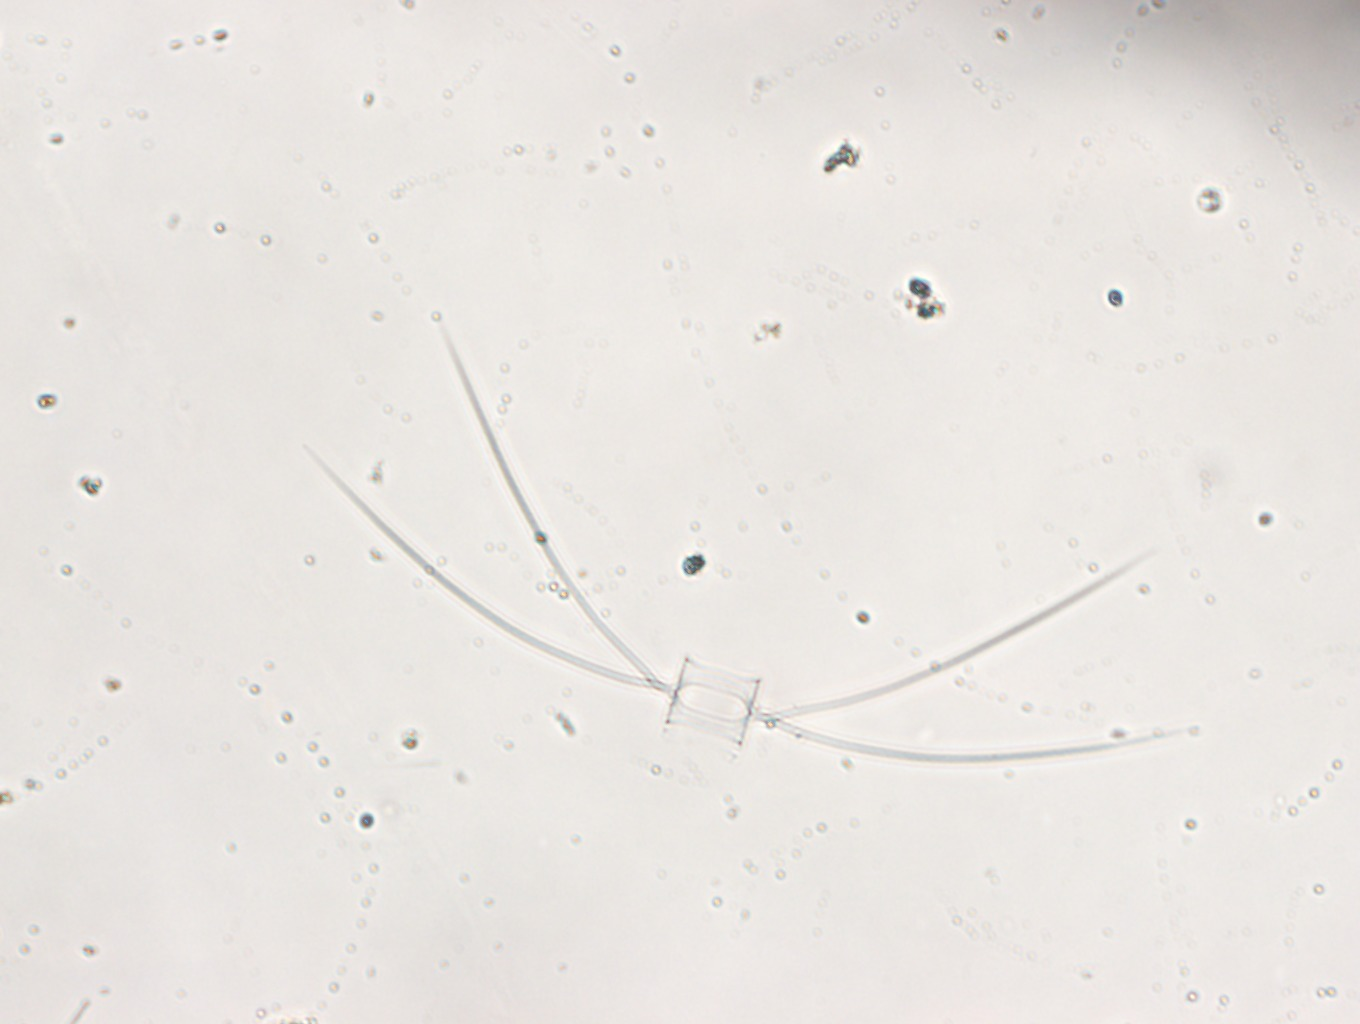chaetoceros: (307, 319, 1173, 763)
